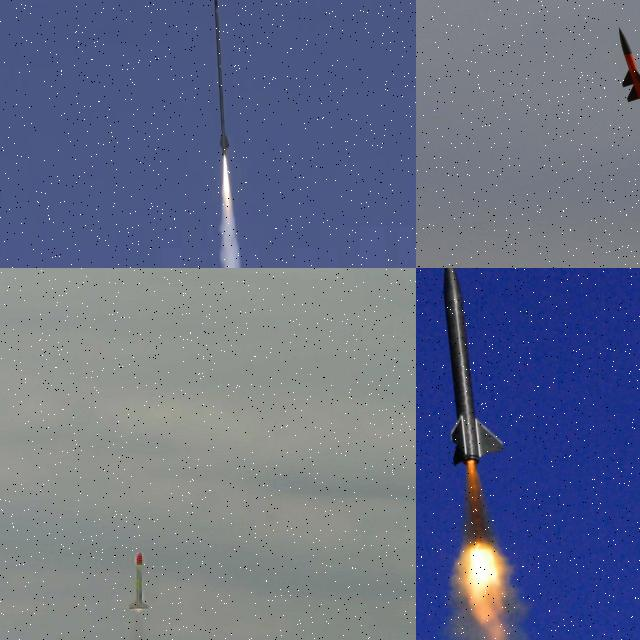Rocket: (443, 268, 505, 467), (214, 0, 229, 160), (617, 27, 640, 102), (127, 551, 150, 609)
